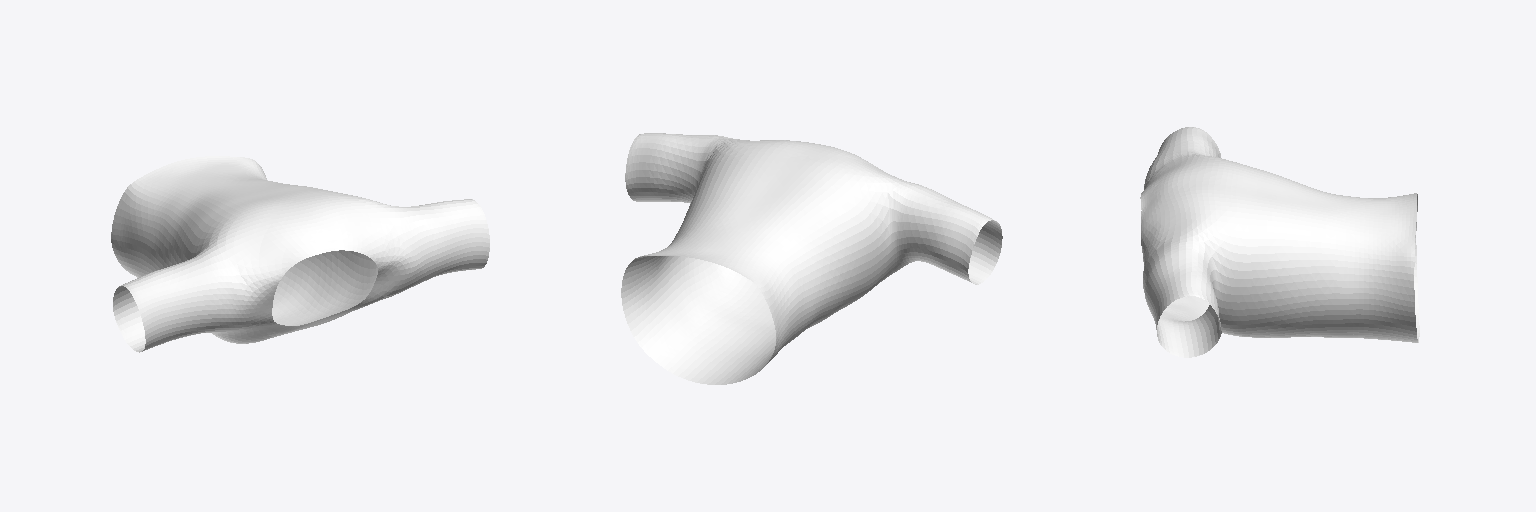
The model's file is tshirt.obj.
3 views of the same model, side by side, from view 1: azimuth 30°, elevation 25°; view 2: azimuth 150°, elevation 25°; view 3: azimuth 270°, elevation 25° (orthographic).
Visible parts, largest first — view 1: TShirt_for_Genesis.Shape.001_TShirt_for_Genesis.001; view 2: TShirt_for_Genesis.Shape.001_TShirt_for_Genesis.001; view 3: TShirt_for_Genesis.Shape.001_TShirt_for_Genesis.001.
Boxes of the visible parts, box(x1,y1,x2,y2) form: TShirt_for_Genesis.Shape.001_TShirt_for_Genesis.001: box(111, 156, 489, 352); TShirt_for_Genesis.Shape.001_TShirt_for_Genesis.001: box(621, 133, 1002, 384); TShirt_for_Genesis.Shape.001_TShirt_for_Genesis.001: box(1140, 127, 1419, 357).
Bounding box in the file's own units: 5.95 × 2.47 × 4.11.